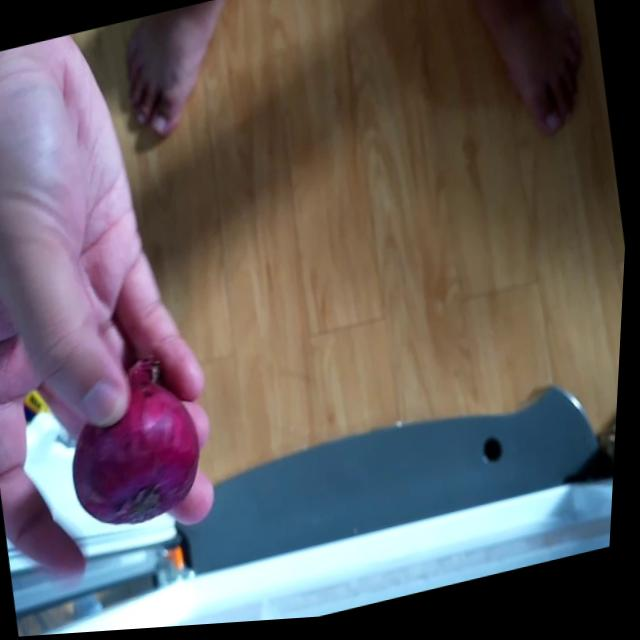onion: (59, 360, 220, 539)
